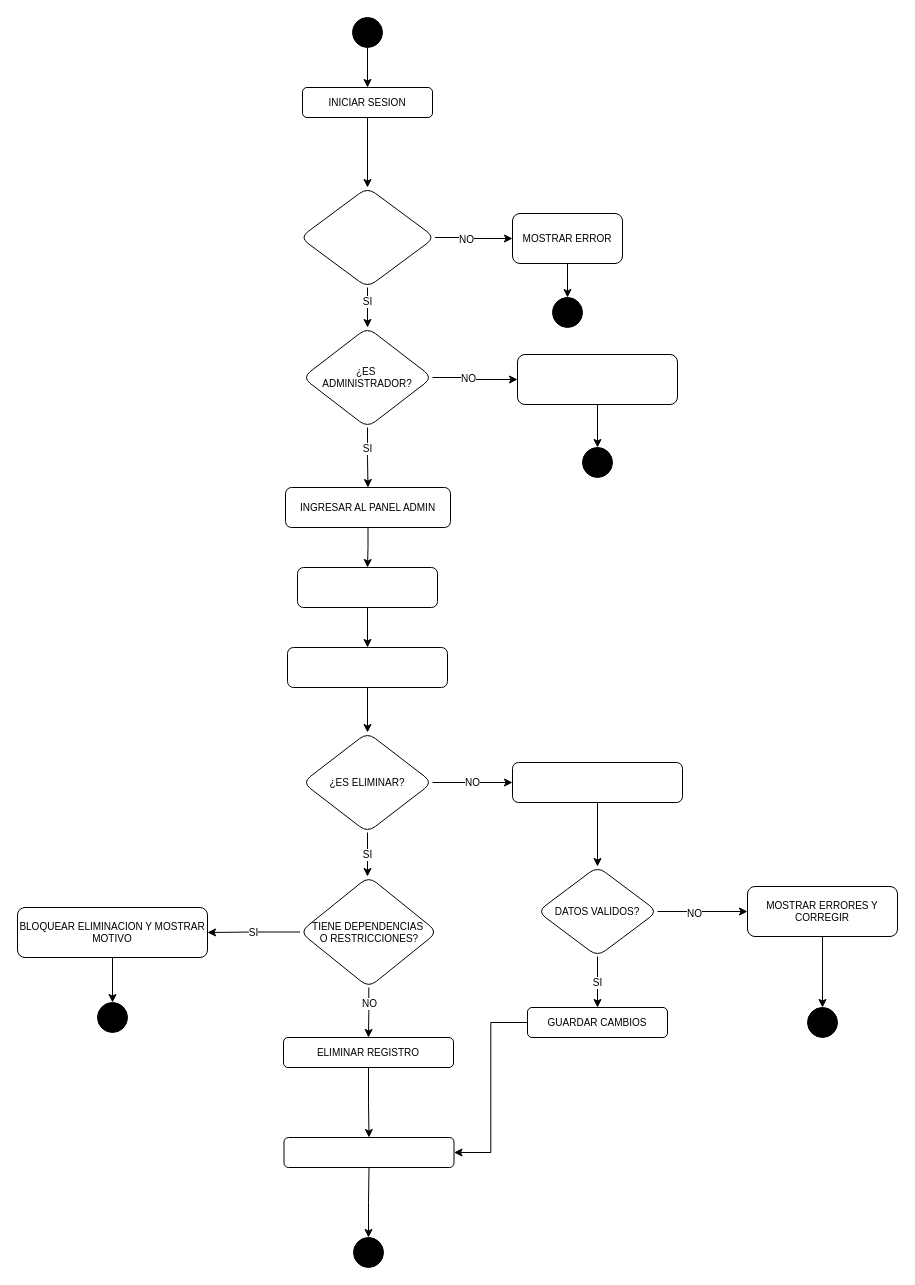
Image size: 915x1285. Some labels were removed from this diagram. The shapes that lost their labels are listed below. From the top down, each one's centre as x and y in pixels, then its label:
point (367, 237): CREDENCIALES VALIDAS?
point (597, 379): DENEGAR ACCESO Y REDIRIGIR
point (367, 587): SELECCIONAR MODULO
point (367, 667): SELECCIONAR ACCION CRUD
point (597, 782): INGRESAR O MODIFICAR DATOS
point (368, 1152): MOSTRAR CONFIRMACION
